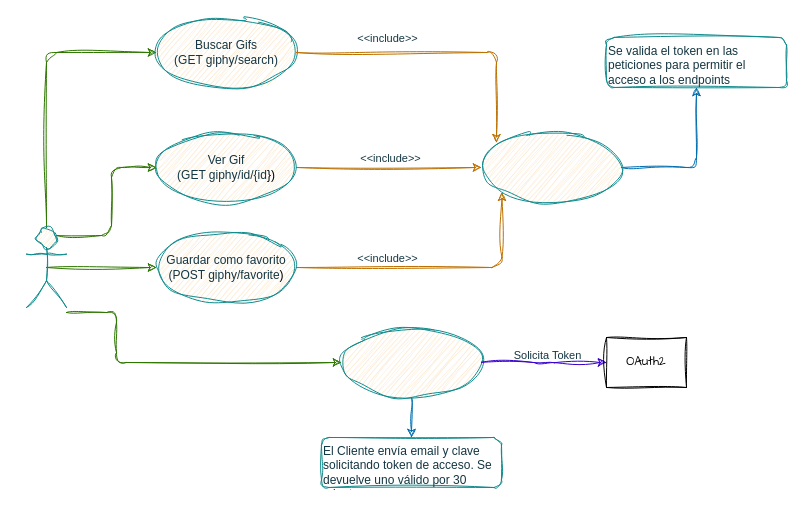
This 804x518 diagram has some shape labels left out. The centre of each missing label's shape, as x and y in pixels:
"AppCliente" goes at pixel 46 267.
"Login (POST giphy/login)" goes at pixel 411 362.
"Valida token (Bearer Token)" goes at pixel 551 167.
